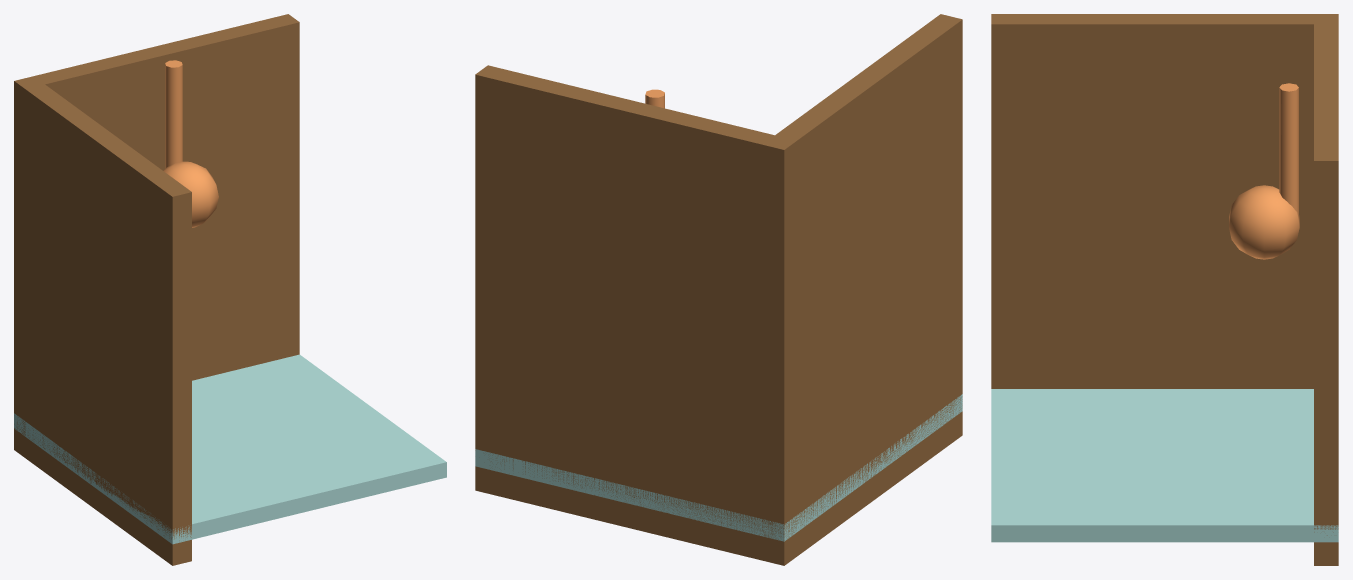
File: shower.glb
The picture shows the model from 3 angles, left to right: view 1: azimuth 30°, elevation 25°; view 2: azimuth 150°, elevation 25°; view 3: azimuth 270°, elevation 25°; orthographic projection. The views are drawn at different scales.
Visible parts, largest first — view 1: shower; view 2: shower; view 3: shower.
Part boxes in pixels (x1,y1,x2,y2): shower: (14,14,446,565); shower: (475,14,962,565); shower: (991,14,1338,565).
Size of the model in its own units: 28 by 36 by 28.
